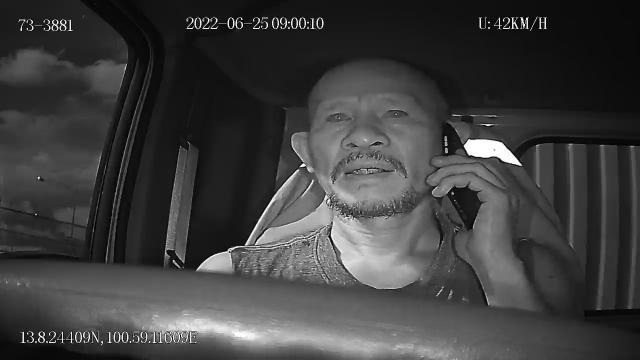PhoneUse: (441, 118, 485, 233)
SafeDriving: (318, 102, 358, 132), (375, 98, 416, 126)
